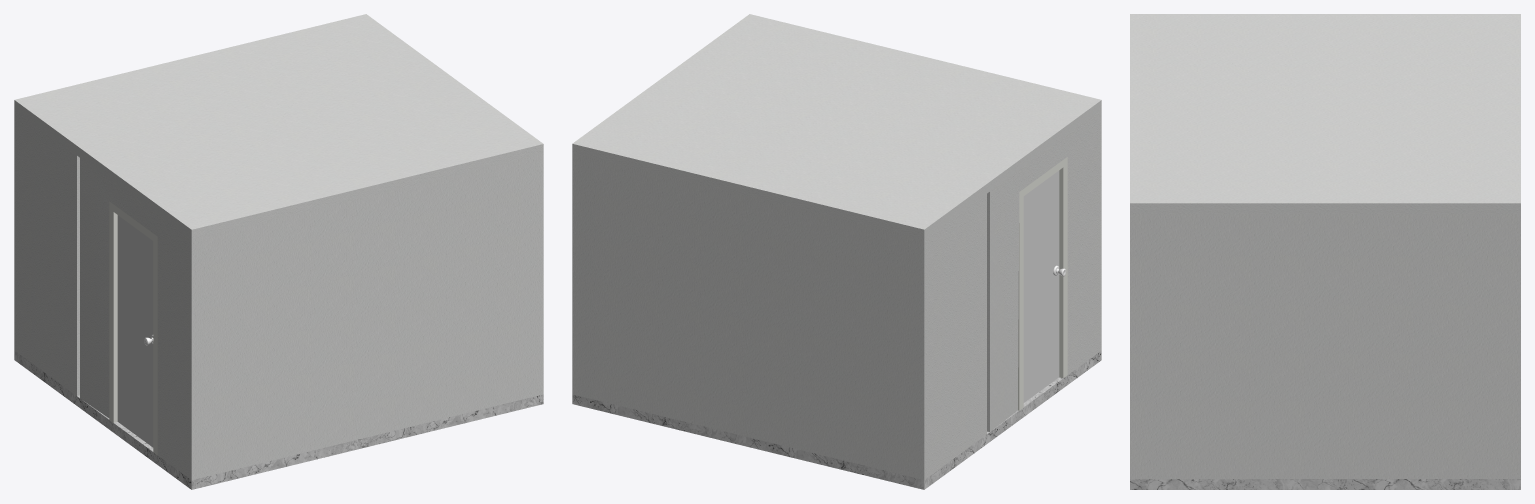
Rendered from FloorPlan428_physics.fbx.
3 renders of one model, left to right at view 1: azimuth 30°, elevation 25°; view 2: azimuth 150°, elevation 25°; view 3: azimuth 270°, elevation 25°, orthographic. The views are drawn at different scales.
Parts seen in each view (by area): view 1: FP428:Walls, FP428:Ceiling, FP428:Door.008, FP428:Floor, FP428:DoorFrame.008; view 2: FP428:Walls, FP428:Ceiling, FP428:Door.008, FP428:Floor, FP428:DoorFrame.008; view 3: FP428:Walls, FP428:Ceiling, FP428:Floor.
Boxes of the visible parts, x1,y1,x2,y2 form: FP428:Walls: [14, 110, 543, 480]; FP428:Ceiling: [14, 14, 543, 239]; FP428:Door.008: [117, 215, 153, 447]; FP428:Floor: [14, 350, 543, 489]; FP428:DoorFrame.008: [109, 201, 157, 455]; FP428:Walls: [572, 110, 1101, 479]; FP428:Ceiling: [572, 14, 1101, 239]; FP428:Door.008: [1023, 170, 1059, 402]; FP428:Floor: [572, 351, 1101, 489]; FP428:DoorFrame.008: [1018, 157, 1067, 410]; FP428:Walls: [1130, 214, 1520, 479]; FP428:Ceiling: [1130, 14, 1520, 213]; FP428:Floor: [1130, 479, 1520, 489].
Size of the model in its own units: 341 by 238 by 294.
